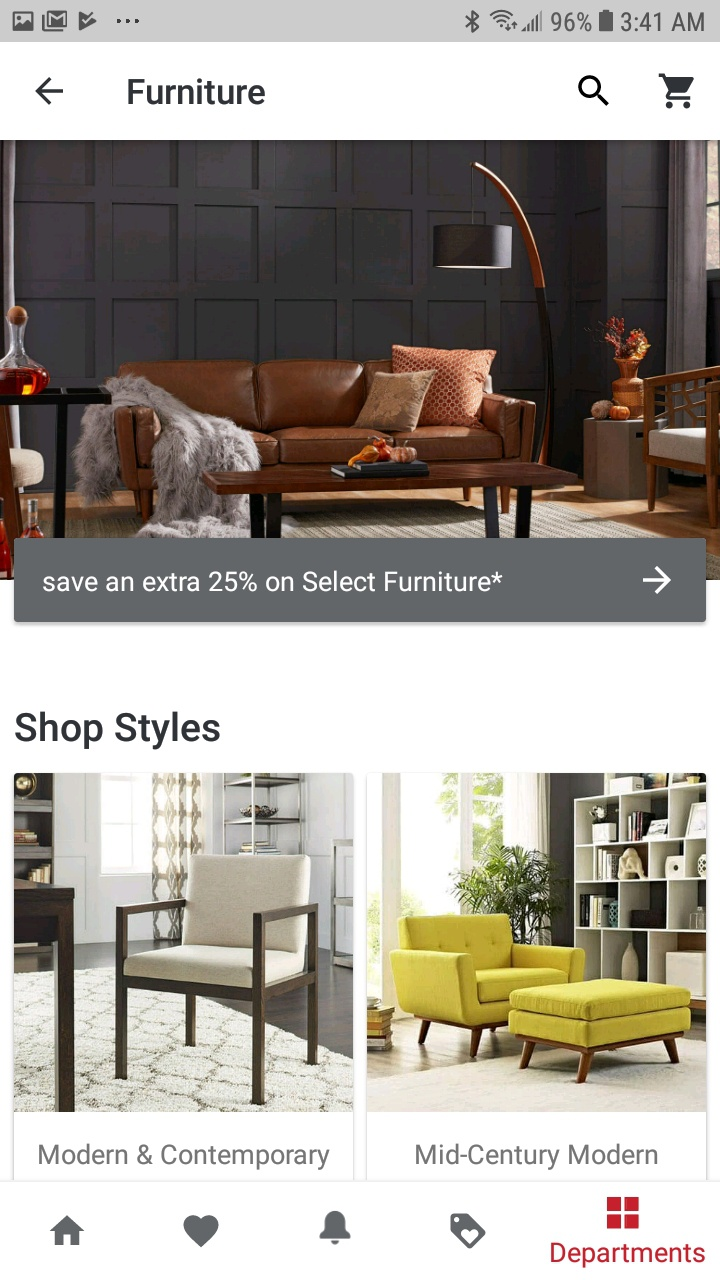Icon: (658, 73, 695, 110), (450, 1212, 487, 1249), (183, 1214, 220, 1248), (319, 1210, 352, 1246), (606, 1196, 640, 1230), (50, 1214, 86, 1246), (578, 75, 610, 108), (642, 566, 672, 596), (35, 78, 64, 106)
Image: (1, 141, 720, 581), (367, 773, 707, 1112), (15, 773, 354, 1112)
Text: (43, 571, 503, 593), (39, 1142, 331, 1171), (15, 711, 221, 751), (416, 1142, 658, 1171), (550, 1241, 706, 1269), (128, 78, 266, 106)
UpperTaskBar: (1, 1, 720, 43)
